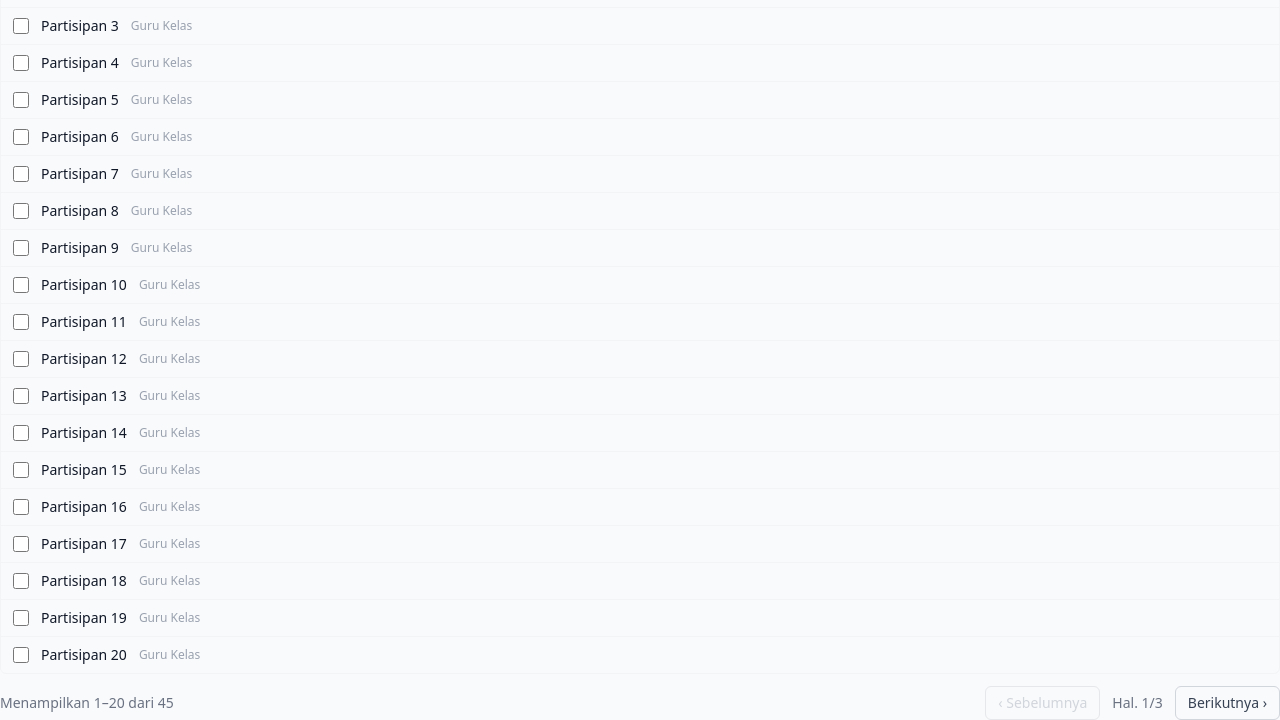
Test: DaftarPilihTerpaginasi › halaman terakhir memotong sisa item dan menonaktifkan Berikutnya
This screenshot has width=1280, height=720.
(page scrolled)
Click the button "Berikutnya ›".
click(1227, 703)  # box [1175,686,1279,719]
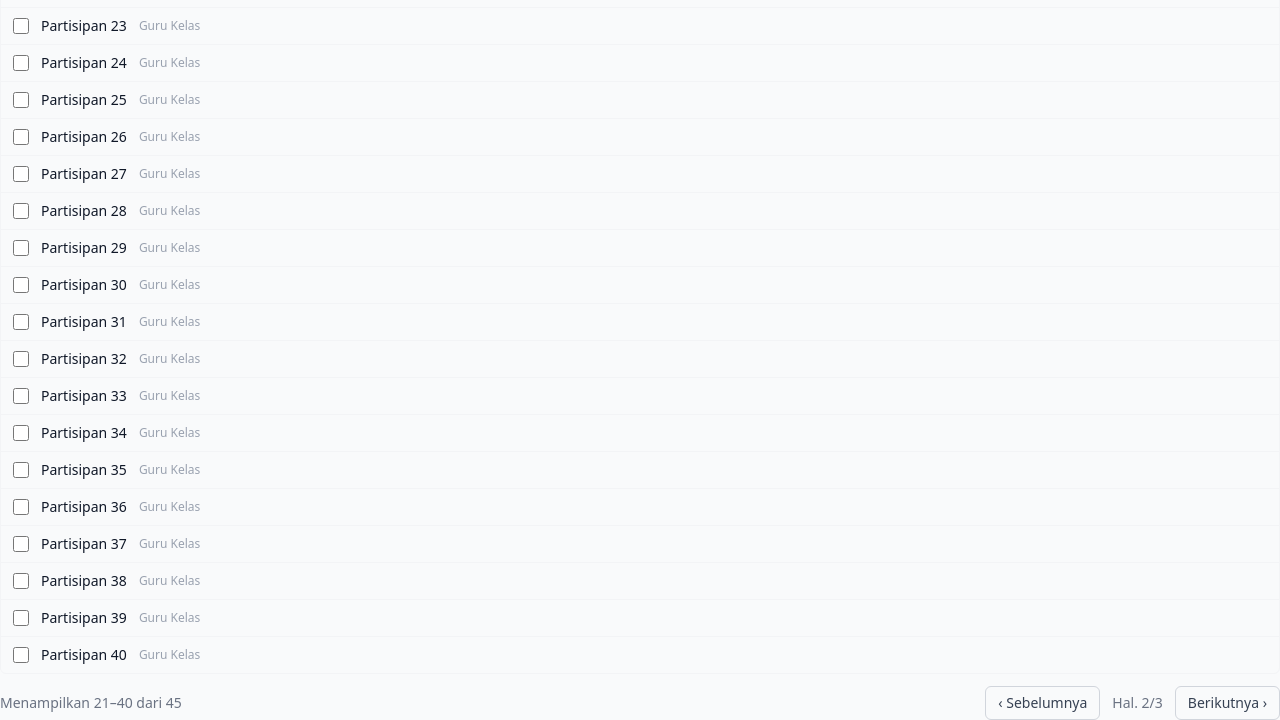
Click the button "Berikutnya ›".
click(1227, 703)  # box [1175,686,1279,719]
(page scrolled)
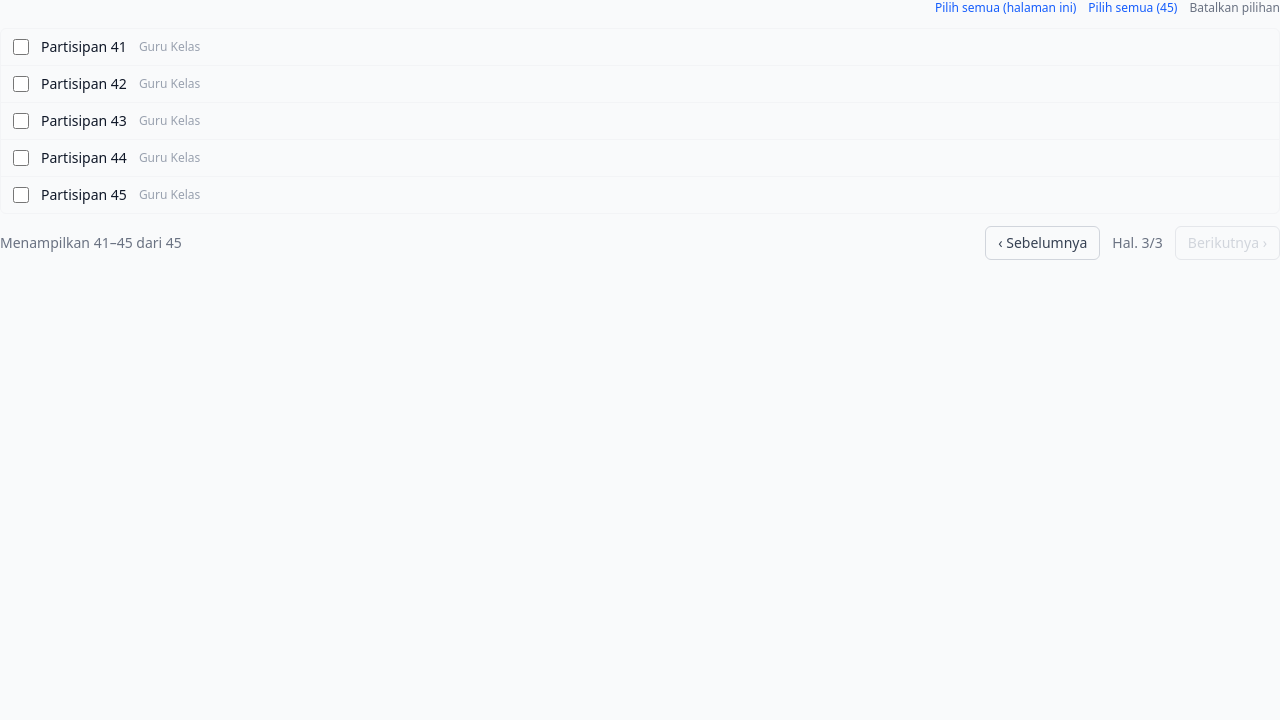
Check: the number of checkboxes is 5, box [13,39,29,55]; [13,76,29,92]; [13,113,29,129]; [13,150,29,166]; [13,187,29,203]
Check: the text "Menampilkan 41–45 dari 45" is shown, box [0,233,182,253]
Check: the button "Berikutnya ›" is disabled, box [1175,226,1279,260]
